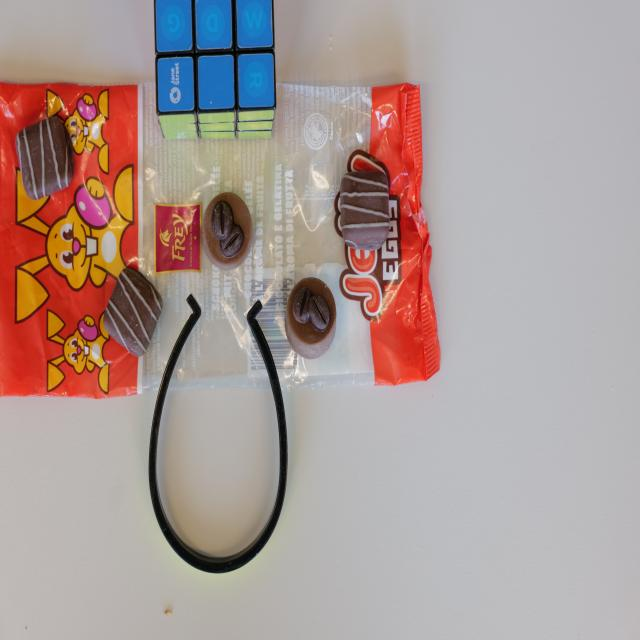Arabia: (203, 189, 254, 267), (288, 276, 336, 354)
Stracciatella: (105, 266, 162, 354), (16, 115, 76, 196), (340, 174, 390, 248)
